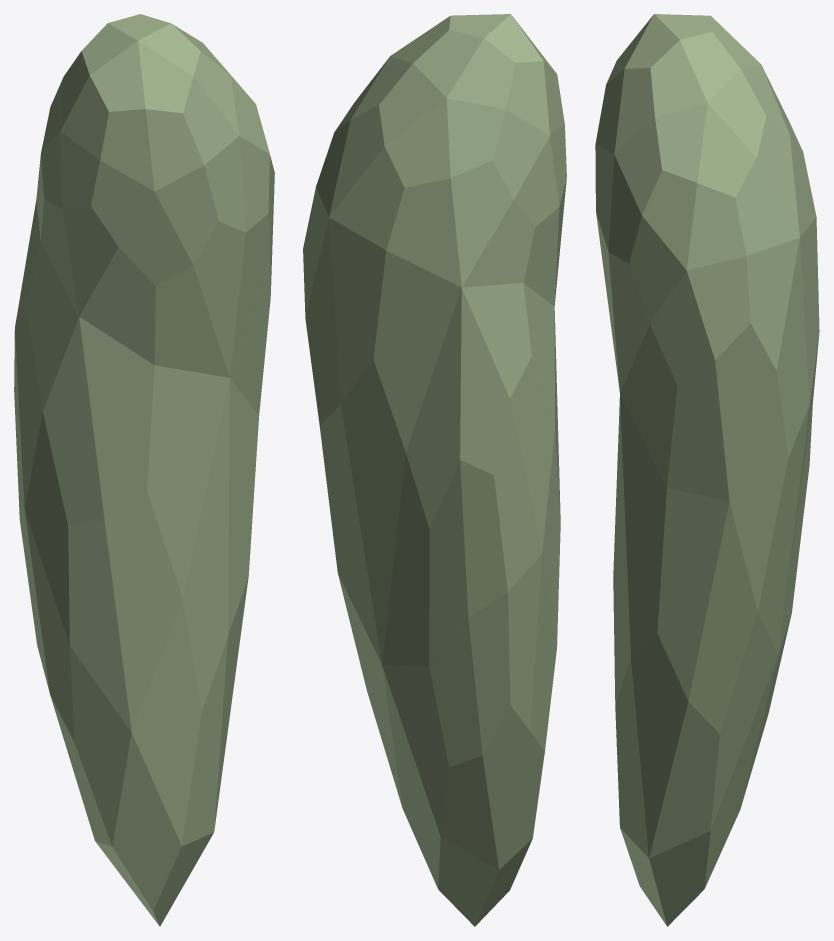
Rendered from EA_Swamp_Liana_05a.glb.
3 views of the same model, side by side, from view 1: azimuth 30°, elevation 25°; view 2: azimuth 150°, elevation 25°; view 3: azimuth 270°, elevation 25° (orthographic).
Parts seen in each view (by area): view 1: EA_Swamp_Liana_05a; view 2: EA_Swamp_Liana_05a; view 3: EA_Swamp_Liana_05a.
Part boxes in pixels (x1,y1,x2,y2): EA_Swamp_Liana_05a: (14, 14, 274, 926); EA_Swamp_Liana_05a: (303, 14, 566, 926); EA_Swamp_Liana_05a: (595, 14, 819, 926).
Bounding box in the file's own units: 0.7256 × 2.67 × 0.6039.
1 material, 1 textured.
